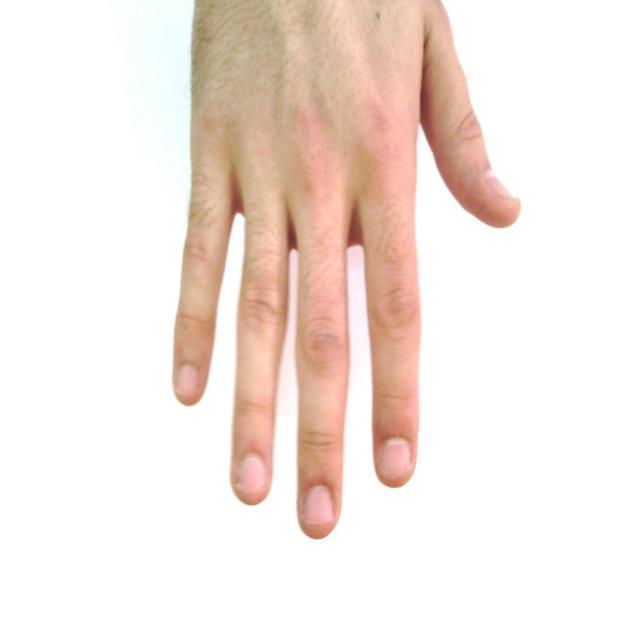others: (166, 0, 522, 549)
